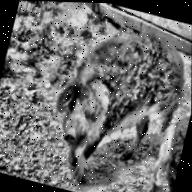boar: (22, 1, 192, 168)
